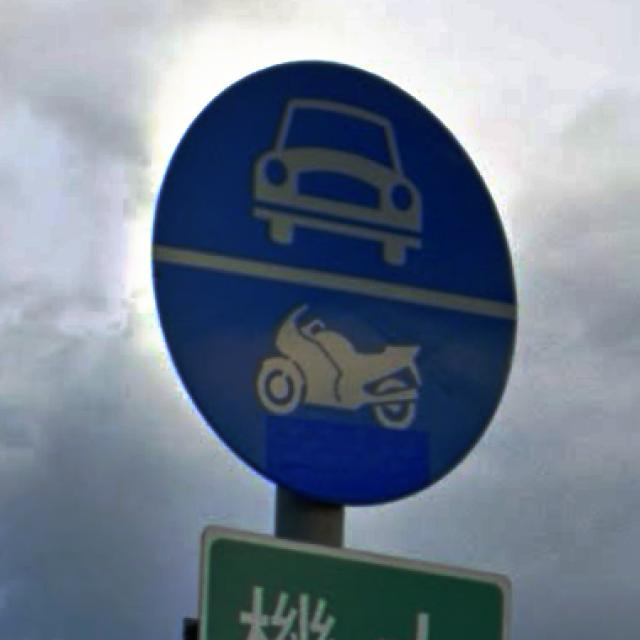carmotorcycle: (155, 64, 512, 503)
